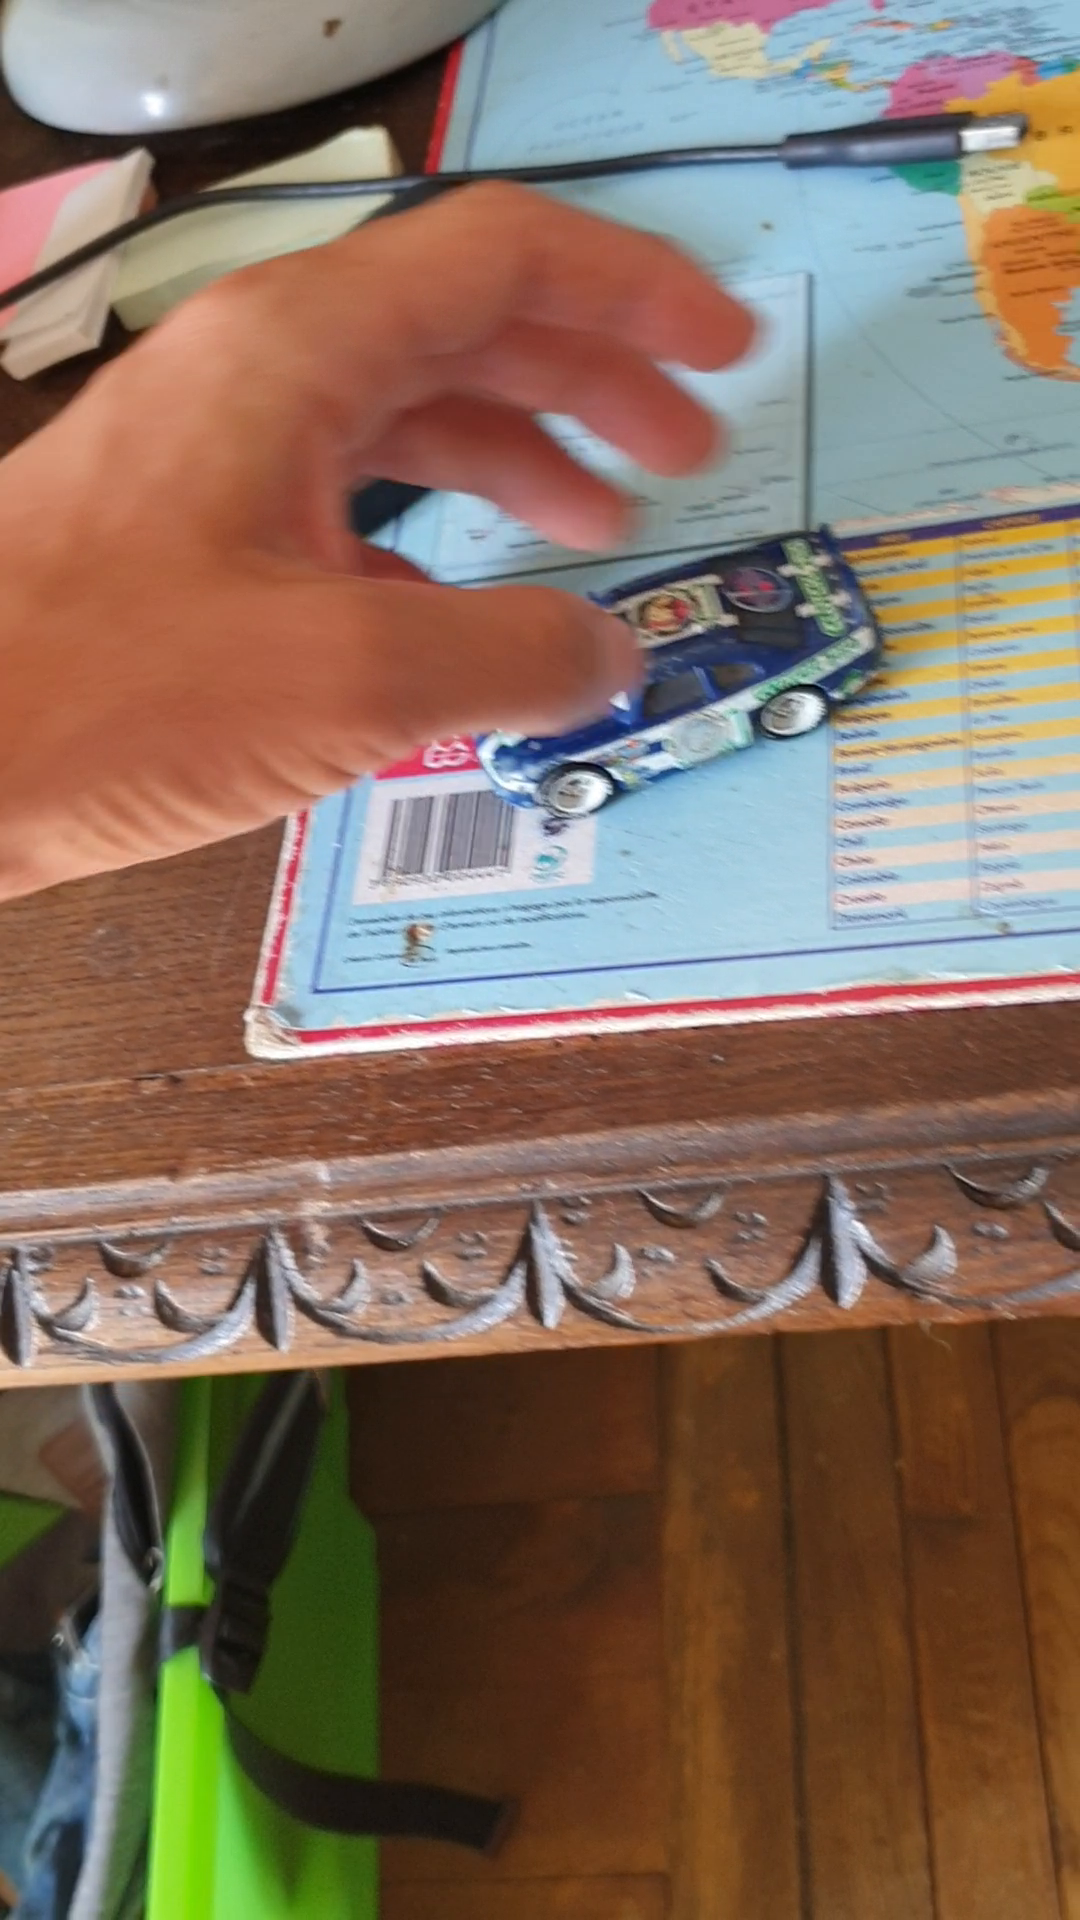cars: (472, 520, 887, 825)
